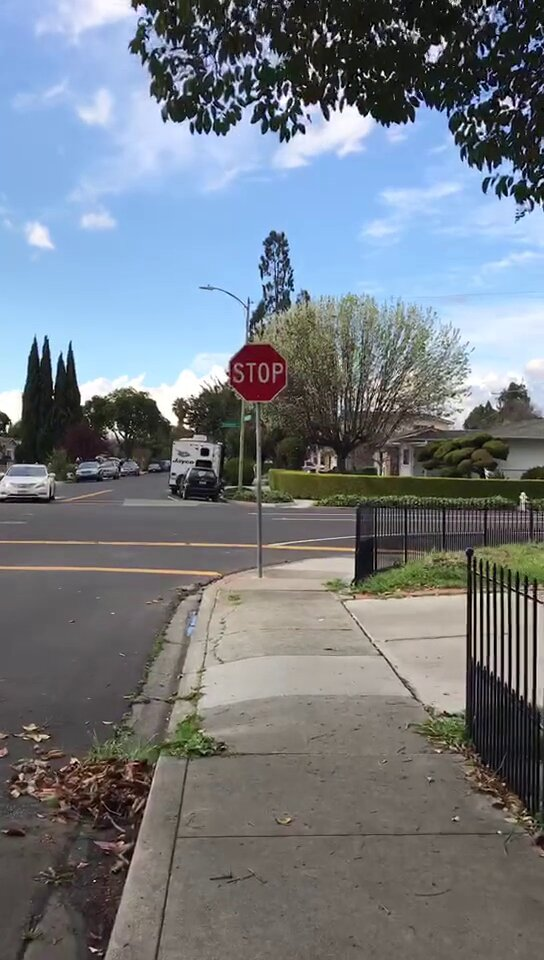stop_sign: (228, 343, 287, 403)
